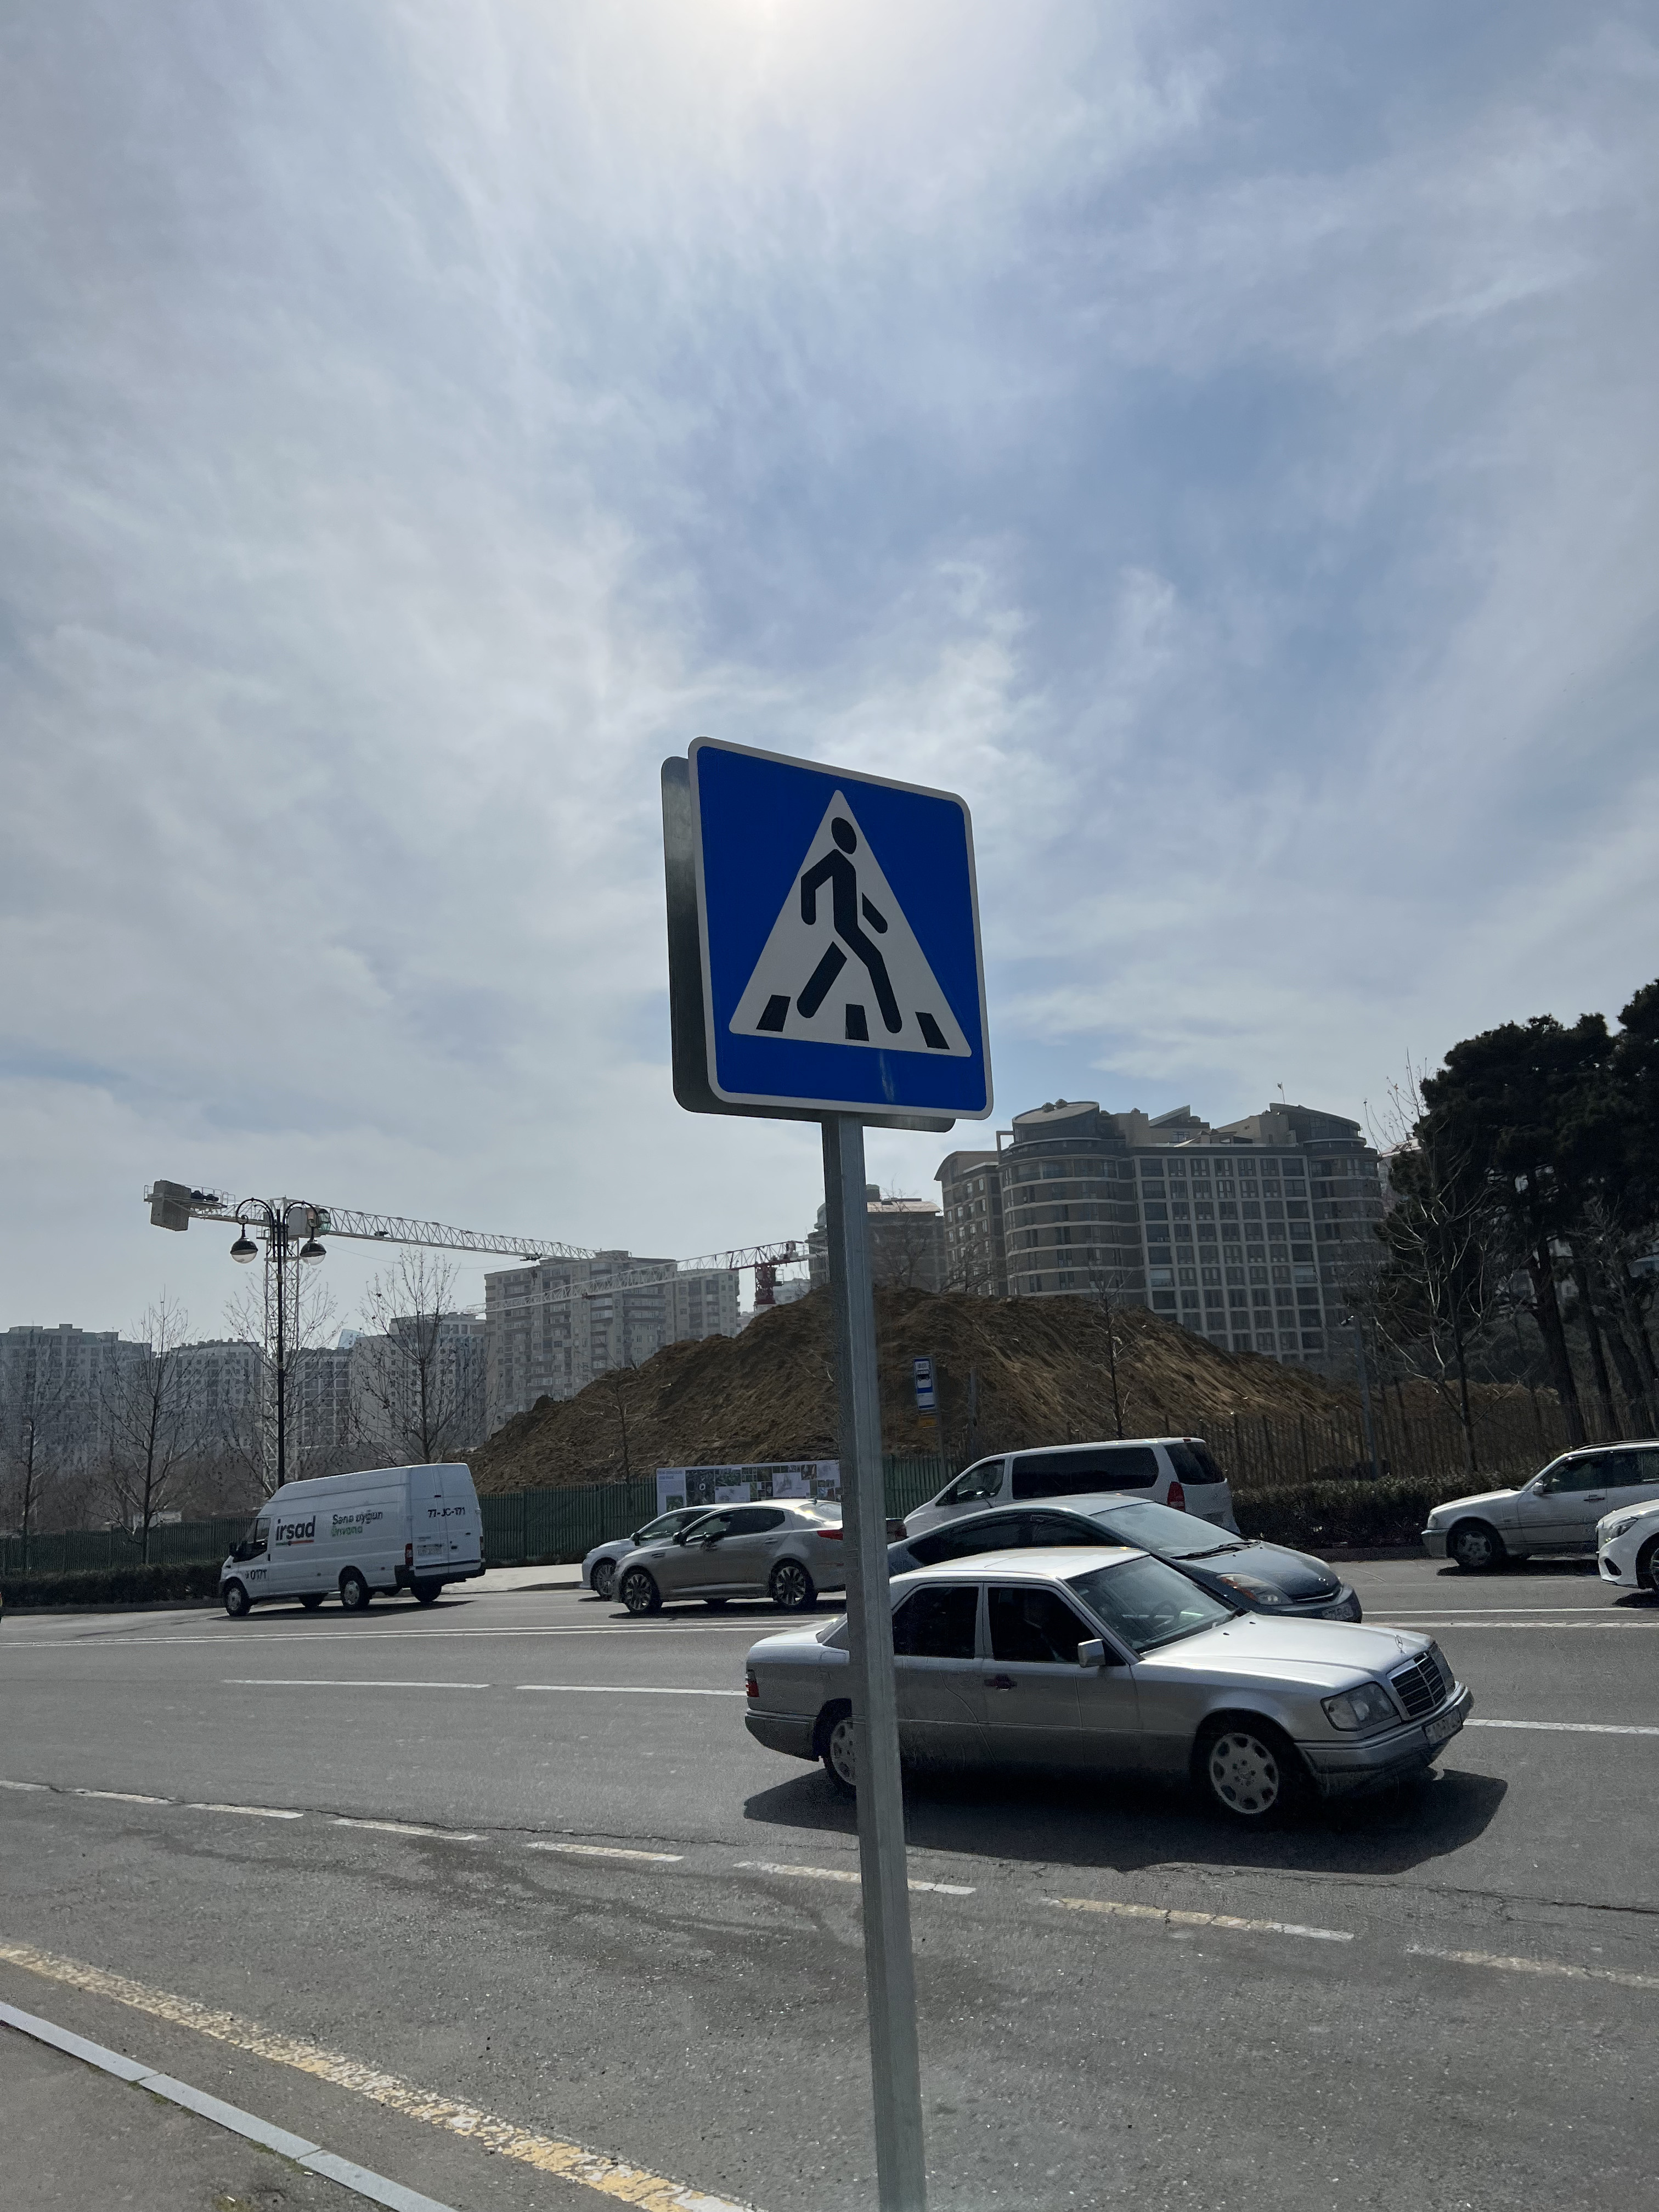Pedestrian Crossing: (687, 737, 993, 1122)
